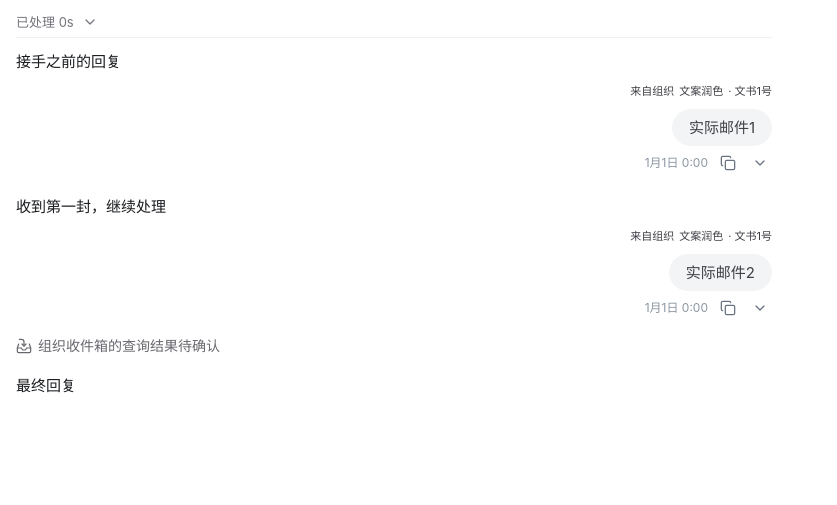
Test case: organization mail inside a run › shows the trusted source, expands and copies each mail independently
This screenshot has width=837, height=505.
Expected: the 1st element showing "来自组织 文案润色 · 文书1号" is shown, [630, 85, 772, 99]
What coordinates should you click on to do the following:
click the button named "复制消息" below "实际邮件1"
I would click on:
 (728, 163)
Its box is [716, 151, 740, 175].
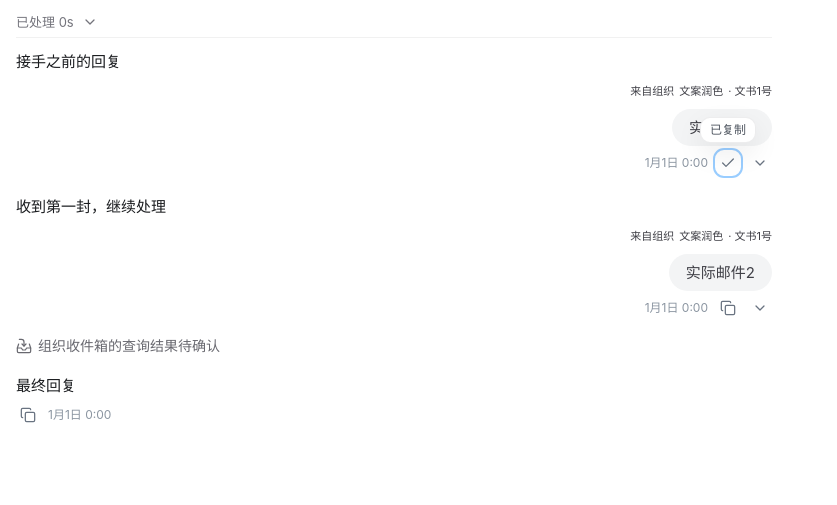
What coordinates should you click on to do the following:
click the button named "展开组织上下文" below "实际邮件1"
I would click on:
 (760, 163)
Its box is [748, 151, 772, 175].
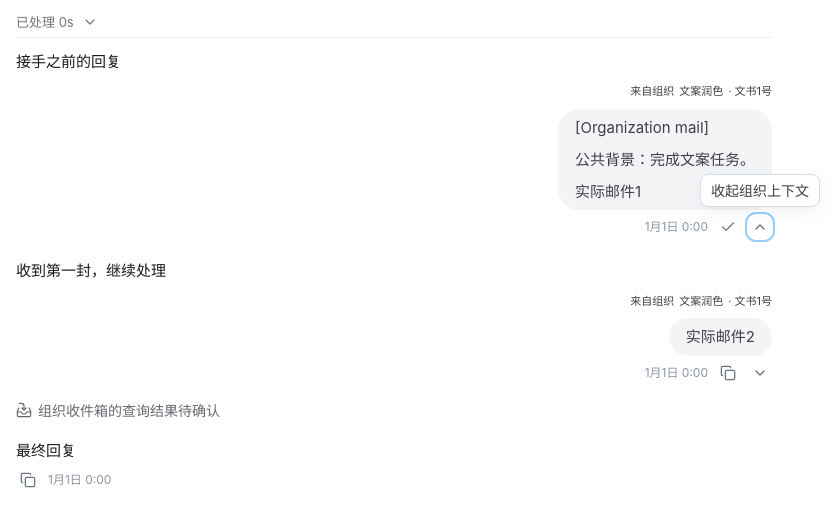
Expected: the text "公共背景" is not shown
Expected: the text "公共背景：完成文案任务。" is shown, [575, 150, 755, 169]
What coordinates should you click on to do the following:
click the button named "已复制"
I would click on:
 (728, 227)
Its box is [716, 215, 740, 239].
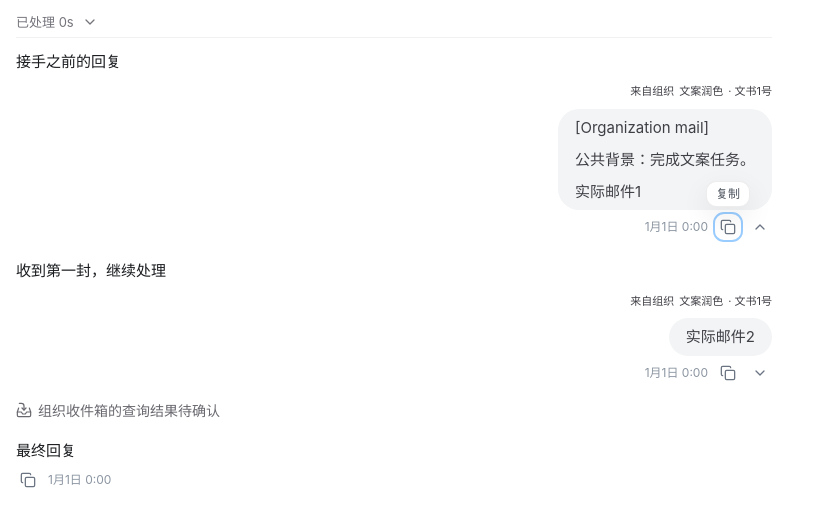
What coordinates should you click on to do the following:
click the button named "收起组织上下文"
I would click on:
 (760, 227)
Its box is [748, 215, 772, 239].
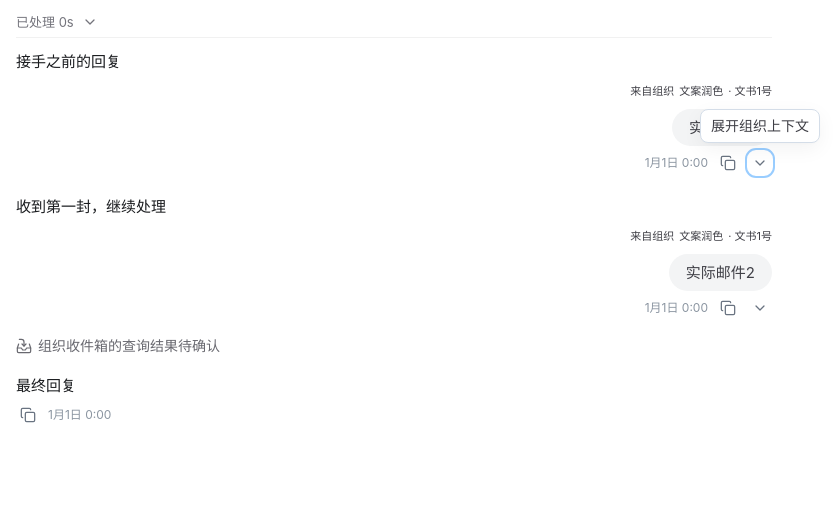
Expected: the text "公共背景" is gone
